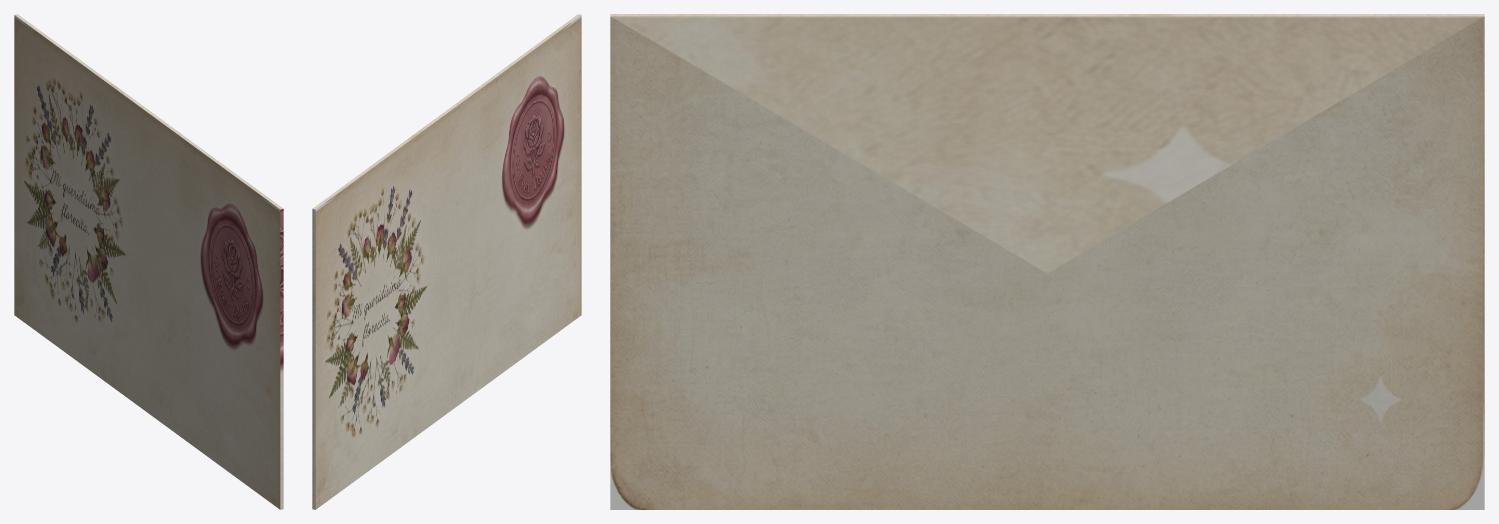
Rendered from cartaabuela.fbx.
3 renders of one model, left to right at view 1: azimuth 30°, elevation 25°; view 2: azimuth 150°, elevation 25°; view 3: azimuth 270°, elevation 25°, orthographic. The views are drawn at different scales.
Parts seen in each view (by area): view 1: Cube; view 2: Cube; view 3: Cube, Plane.
Part boxes in pixels (x1,y1,x2,y2): Cube: [14, 14, 283, 509]; Cube: [312, 14, 581, 509]; Cube: [610, 14, 1484, 509]; Plane: [612, 17, 1482, 273].
Bounding box in the file's own units: 11.87 × 200 × 321.
